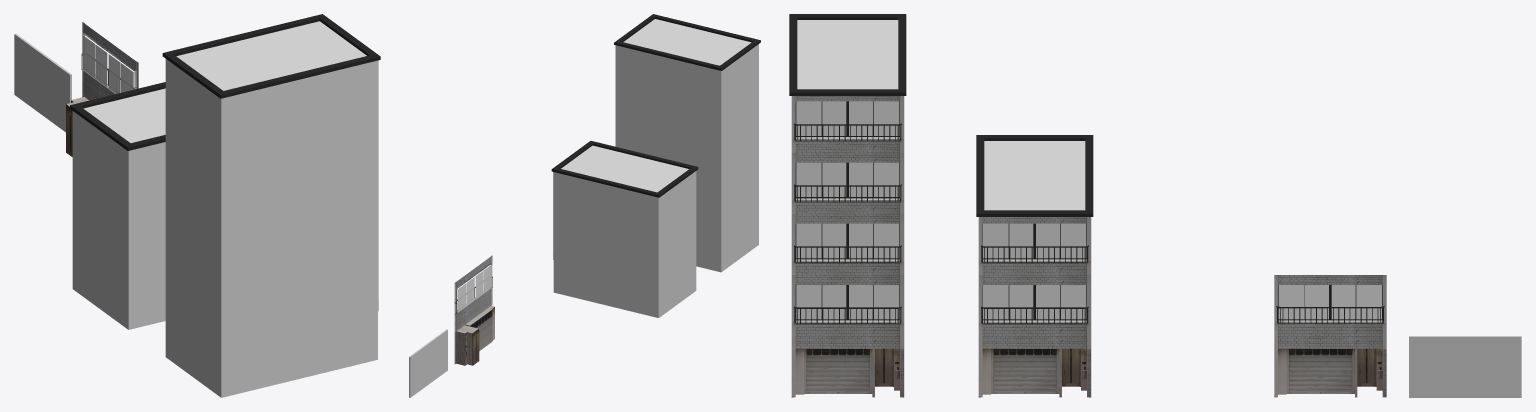
Rendered from 004_Building.fbx.
The picture shows the model from 3 angles, left to right: view 1: azimuth 30°, elevation 25°; view 2: azimuth 150°, elevation 25°; view 3: azimuth 270°, elevation 25°; orthographic projection. The views are drawn at different scales.
Visible parts, largest first — view 1: Wall.003, Wall.004, Roof.001, Wall.002, Wall.001, Roof, 004.3_Building_Facades, 004.2_Building_Facades, 004.1_Building_Facades; view 2: Wall.003, Wall.001, Wall.004, Roof, Roof.001, Wall.002, 004.1_Building_Facades, 004.3_Building_Facades, 004.2_Building_Facades; view 3: 004.2_Building_Facades.002, 004.2_Building_Facades.001, Roof, Roof.001, 004.3_Building_Facades, 004.2_Building_Facades, 004.1_Building_Facades, 004.1_Building_Facades.002, 004.1_Building_Facades.001, 004.3_Building_prop.002, 004.3_Building_prop.001, 004.4_Building_prop.
Boxes of the visible parts, x1,y1,x2,y2 form: Wall.003: [165, 59, 377, 397]; Wall.004: [166, 59, 220, 396]; Roof.001: [162, 14, 380, 98]; Wall.002: [73, 112, 127, 328]; Wall.001: [72, 111, 165, 329]; Roof: [70, 82, 165, 150]; 004.3_Building_Facades: [14, 33, 71, 132]; 004.2_Building_Facades: [82, 22, 138, 97]; 004.1_Building_Facades: [66, 82, 101, 156]; Wall.003: [616, 44, 758, 272]; Wall.001: [553, 171, 696, 317]; Wall.004: [722, 45, 758, 271]; Roof: [551, 141, 698, 197]; Roof.001: [614, 14, 760, 70]; Wall.002: [659, 171, 695, 316]; 004.1_Building_Facades: [454, 296, 494, 365]; 004.3_Building_Facades: [409, 329, 447, 397]; 004.2_Building_Facades: [454, 255, 492, 323]; 004.2_Building_Facades.002: [791, 96, 903, 336]; 004.2_Building_Facades.001: [978, 217, 1090, 336]; Roof: [976, 135, 1093, 216]; Roof.001: [789, 14, 906, 95]; 004.3_Building_Facades: [1409, 336, 1521, 397]; 004.2_Building_Facades: [1274, 275, 1386, 336]; 004.1_Building_Facades: [1274, 336, 1386, 397]; 004.1_Building_Facades.002: [791, 336, 903, 397]; 004.1_Building_Facades.001: [978, 336, 1090, 397]; 004.3_Building_prop.002: [794, 123, 901, 324]; 004.3_Building_prop.001: [981, 245, 1088, 324]; 004.4_Building_prop: [1276, 306, 1384, 323].
Bounding box in the file's own units: 832 × 1501 × 3257.
10 materials, 5 textured.
